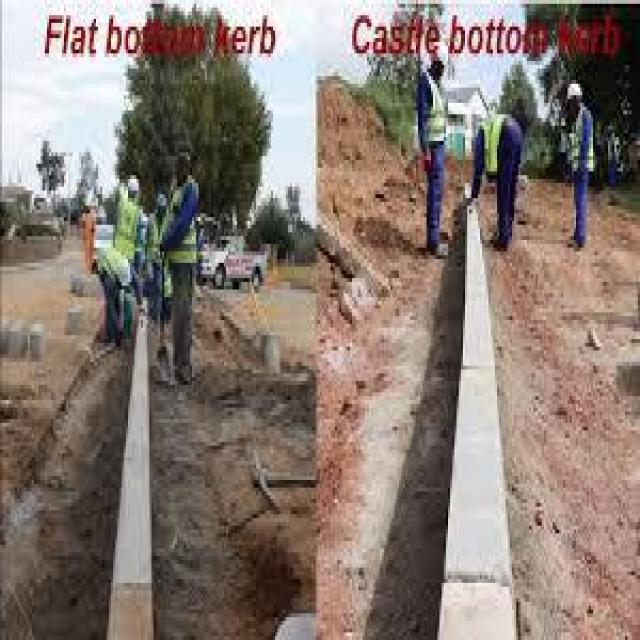curb: (449, 363, 515, 584), (462, 228, 495, 374)
